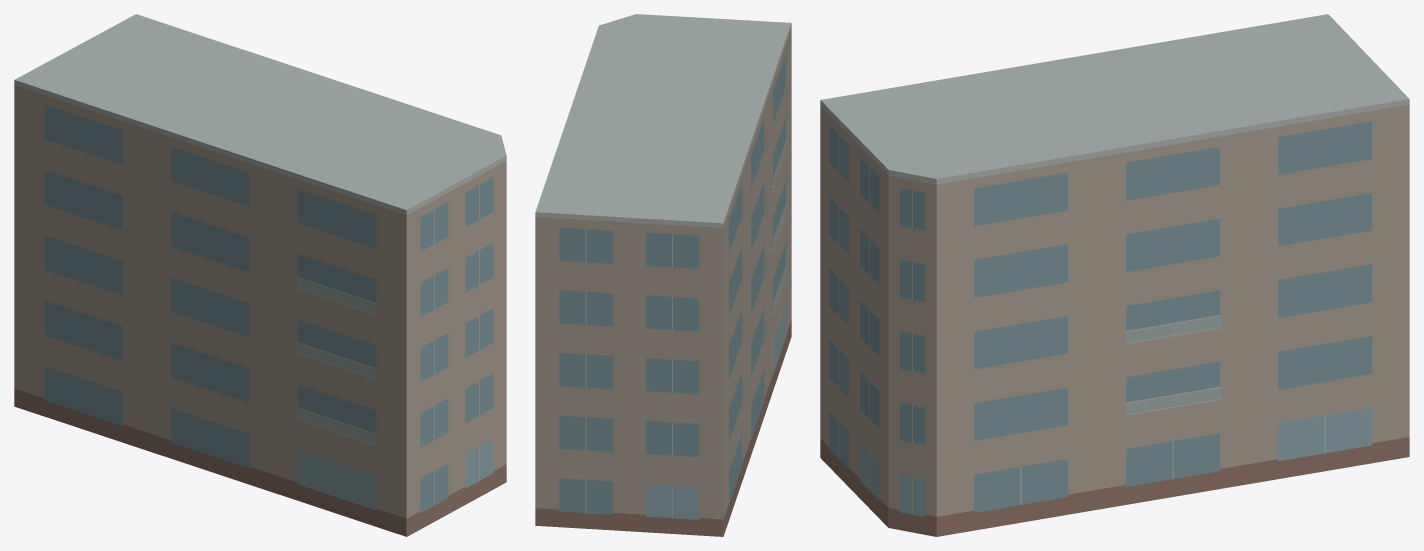
File: survey-upis-32732590.glb
3 renders of one model, left to right at view 1: azimuth 30°, elevation 25°; view 2: azimuth 150°, elevation 25°; view 3: azimuth 270°, elevation 25°, orthographic. The views are drawn at different scales.
Visible parts, largest first — view 1: survey-upis-32732590.tmp; view 2: survey-upis-32732590.tmp; view 3: survey-upis-32732590.tmp.
Part boxes in pixels (<box>): survey-upis-32732590.tmp: <box>14,14,506,536</box>; survey-upis-32732590.tmp: <box>535,14,791,536</box>; survey-upis-32732590.tmp: <box>820,14,1409,536</box>.
Bounding box in the file's own units: 15.42 × 15.6 × 23.28.
